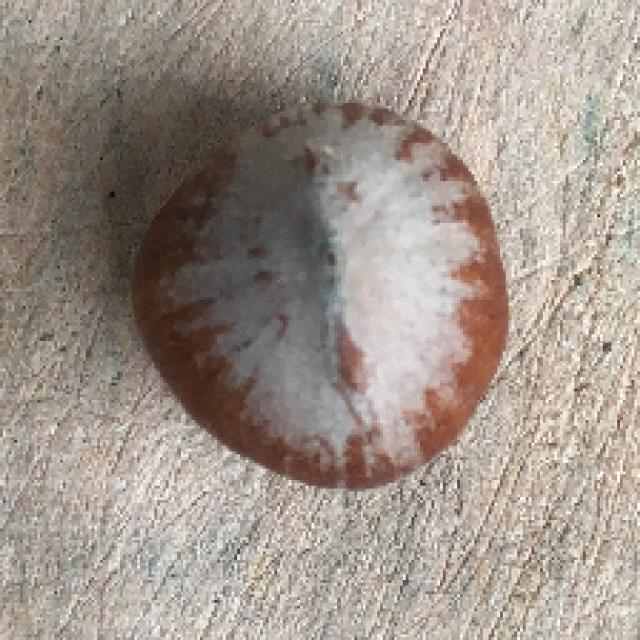qualityHazelnut: (114, 89, 525, 496)
